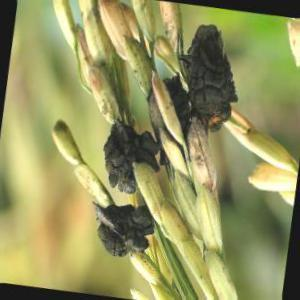False Smut: (184, 32, 239, 127), (102, 122, 152, 200), (99, 214, 151, 262)
